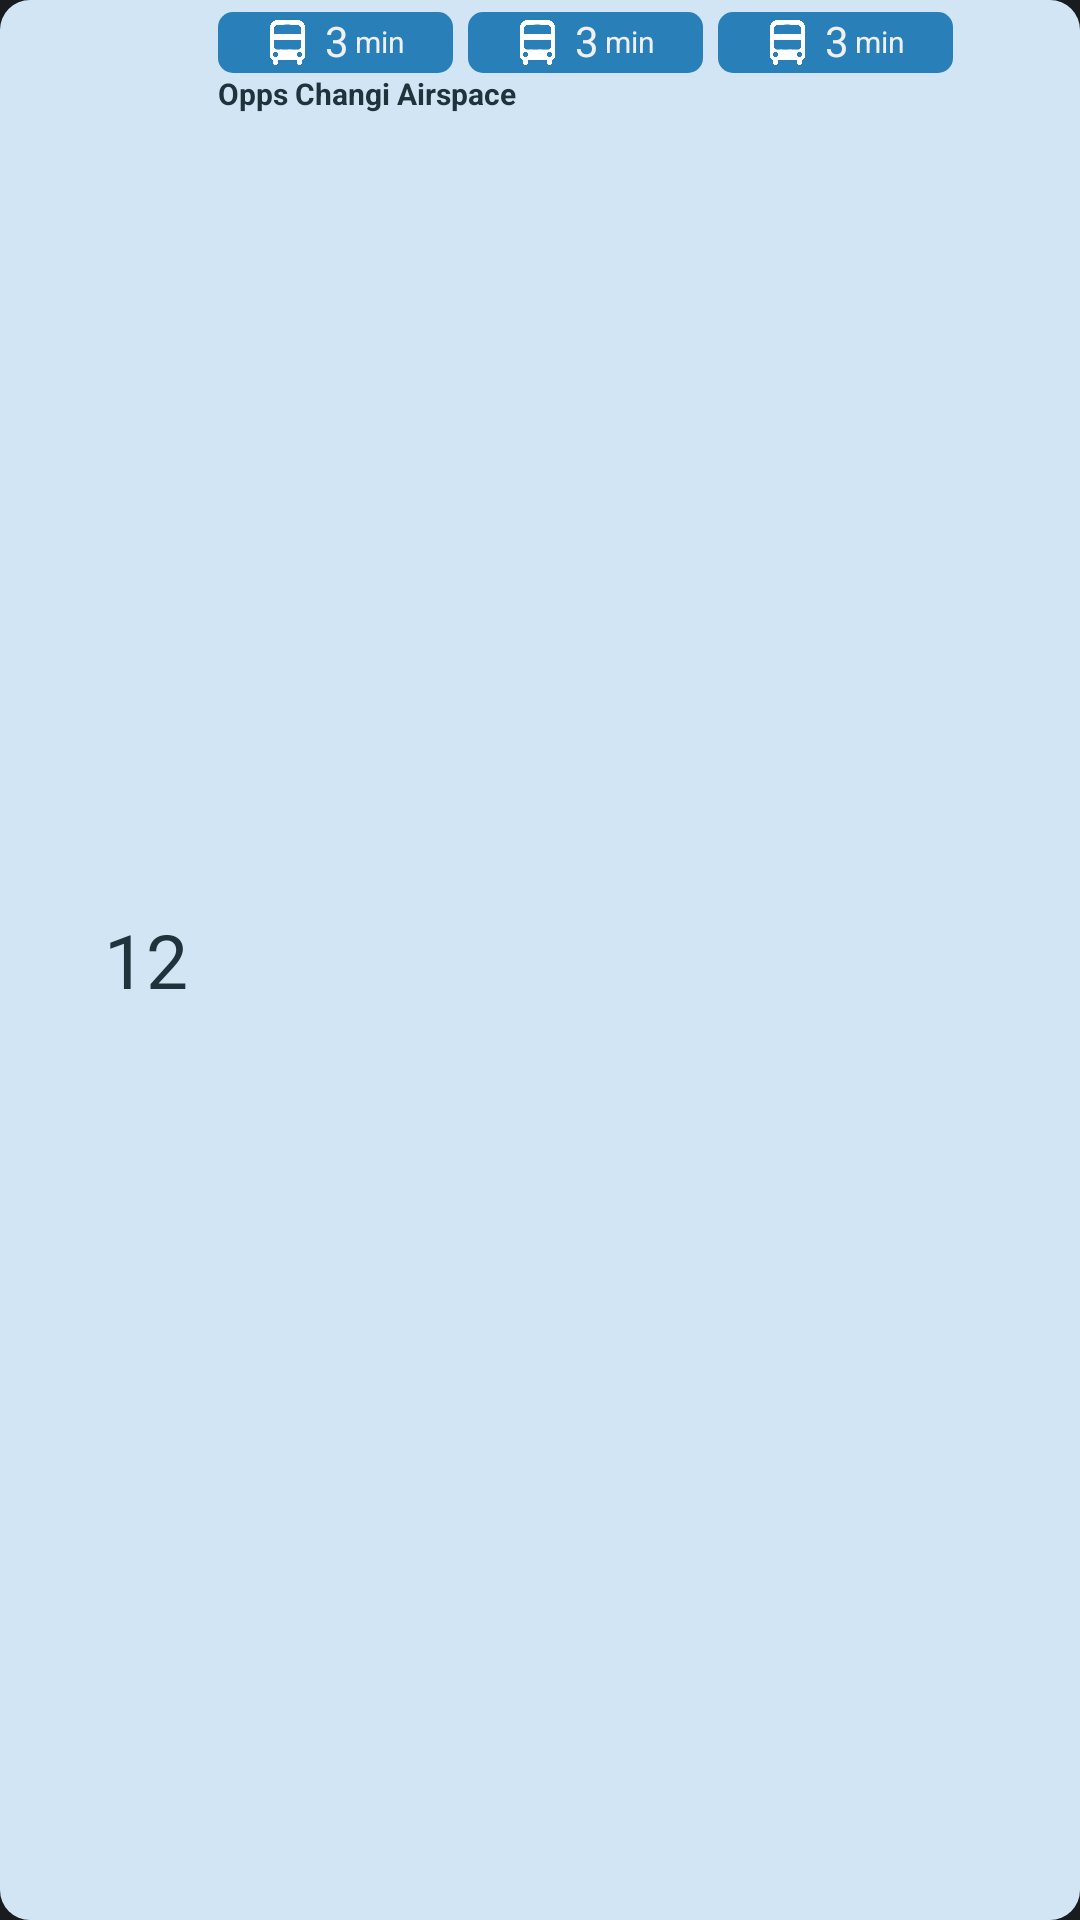

Where icons sit on this 1080px x 1920px app screen, as (x1, y1, x2, y2):
double: (270, 20, 305, 65), (520, 20, 555, 65), (770, 20, 805, 65)
